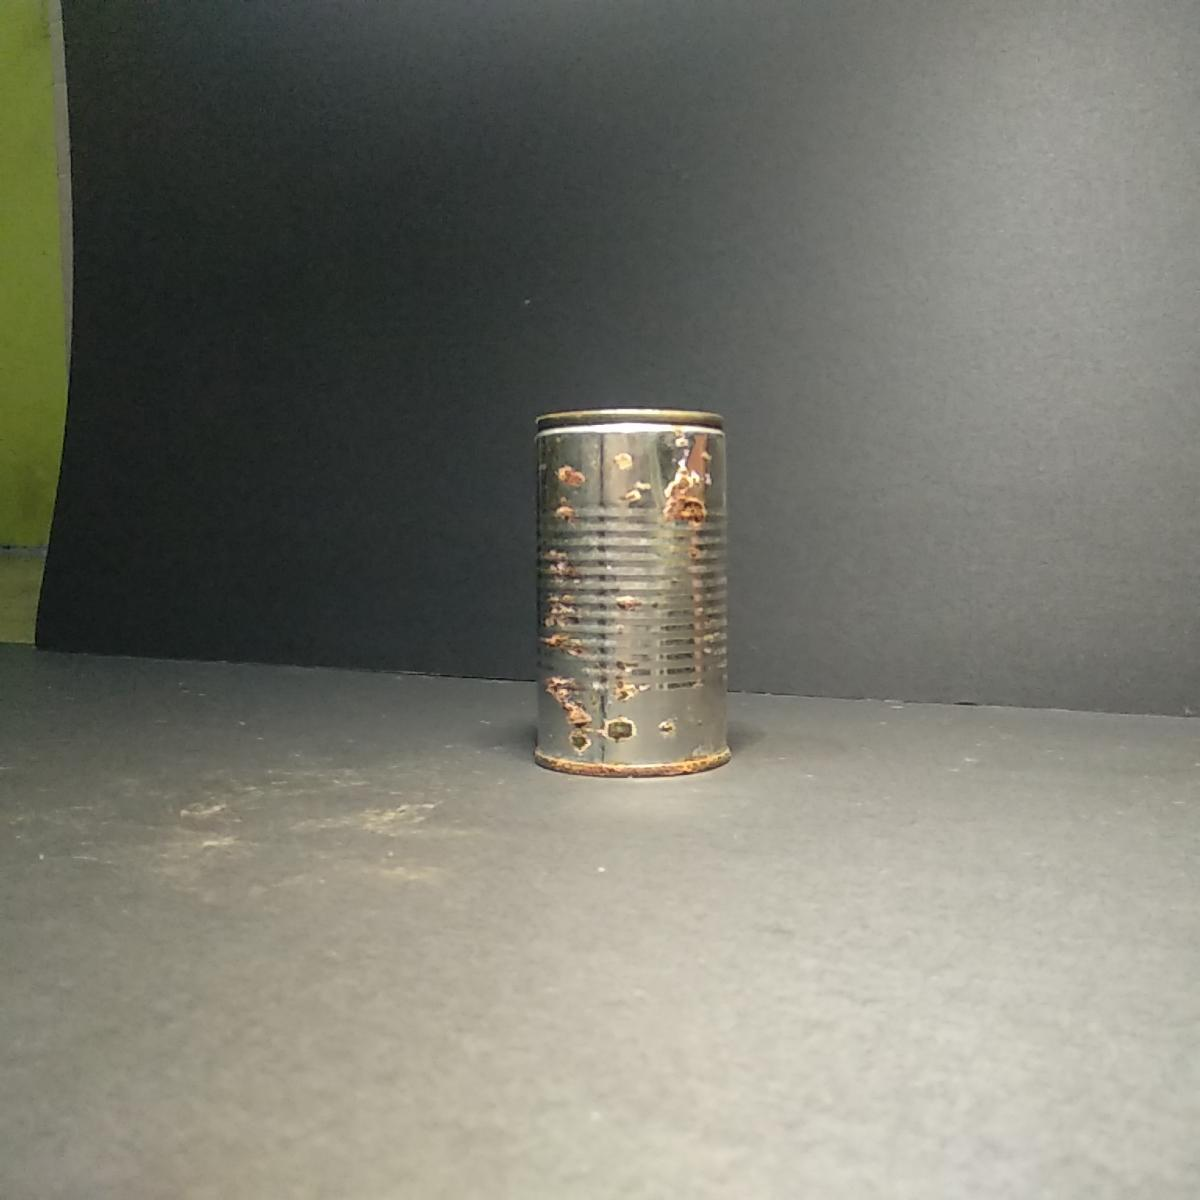Rusted: (526, 394, 750, 790)
